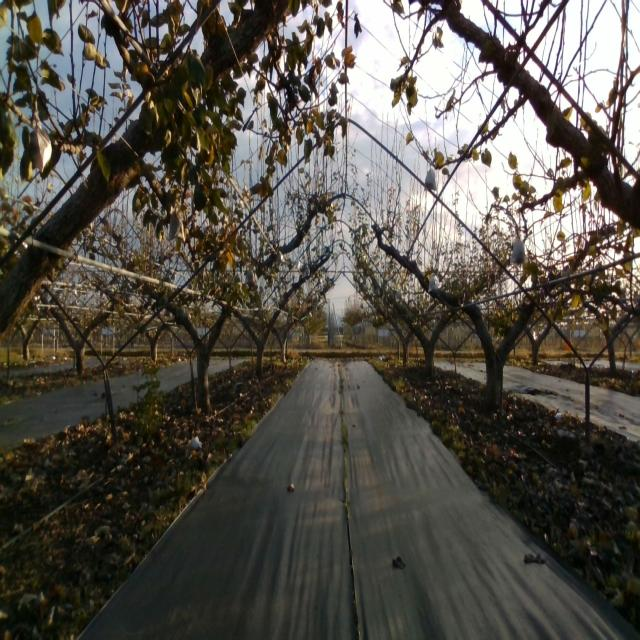pearbags: (29, 118, 54, 172), (168, 207, 186, 243), (510, 235, 525, 267), (424, 164, 437, 193), (428, 271, 442, 293), (245, 270, 255, 286)
